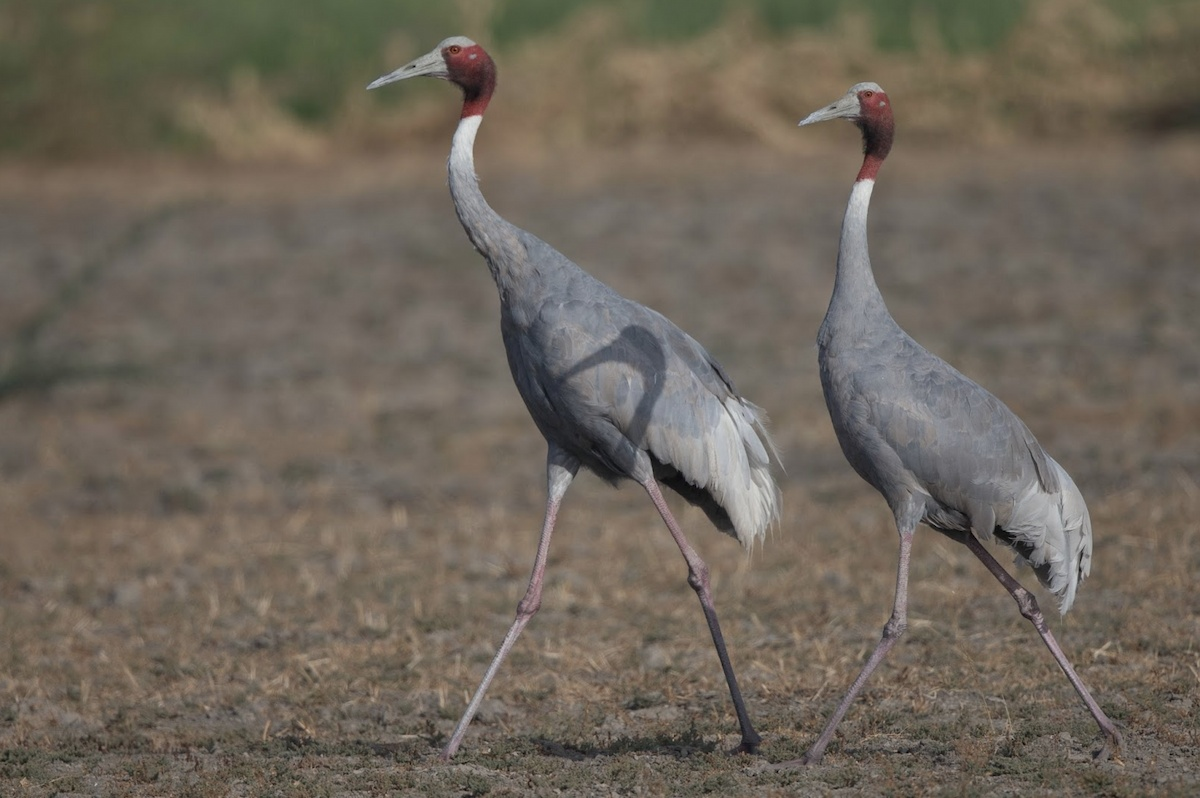crane: (358, 31, 782, 762), (789, 63, 1133, 756)
